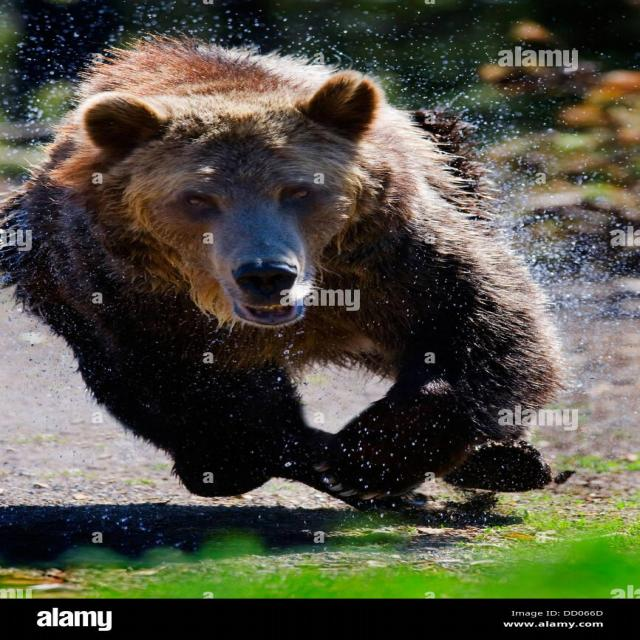Bear: (0, 37, 563, 510)
